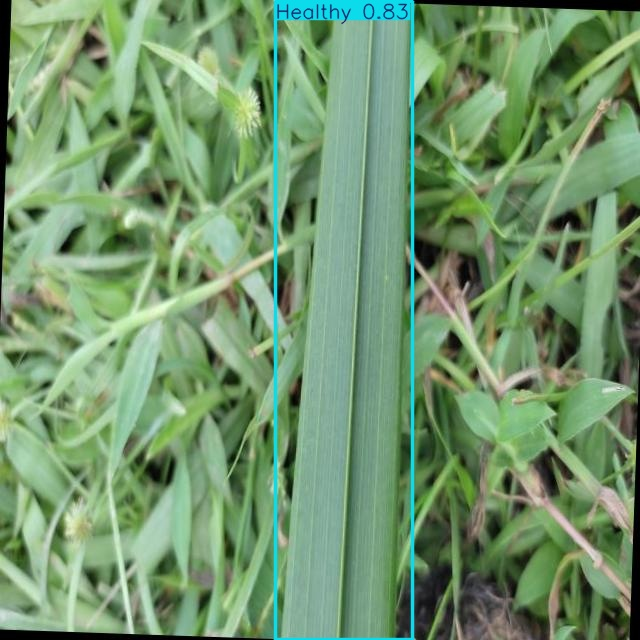Healthy: (276, 1, 413, 640)
